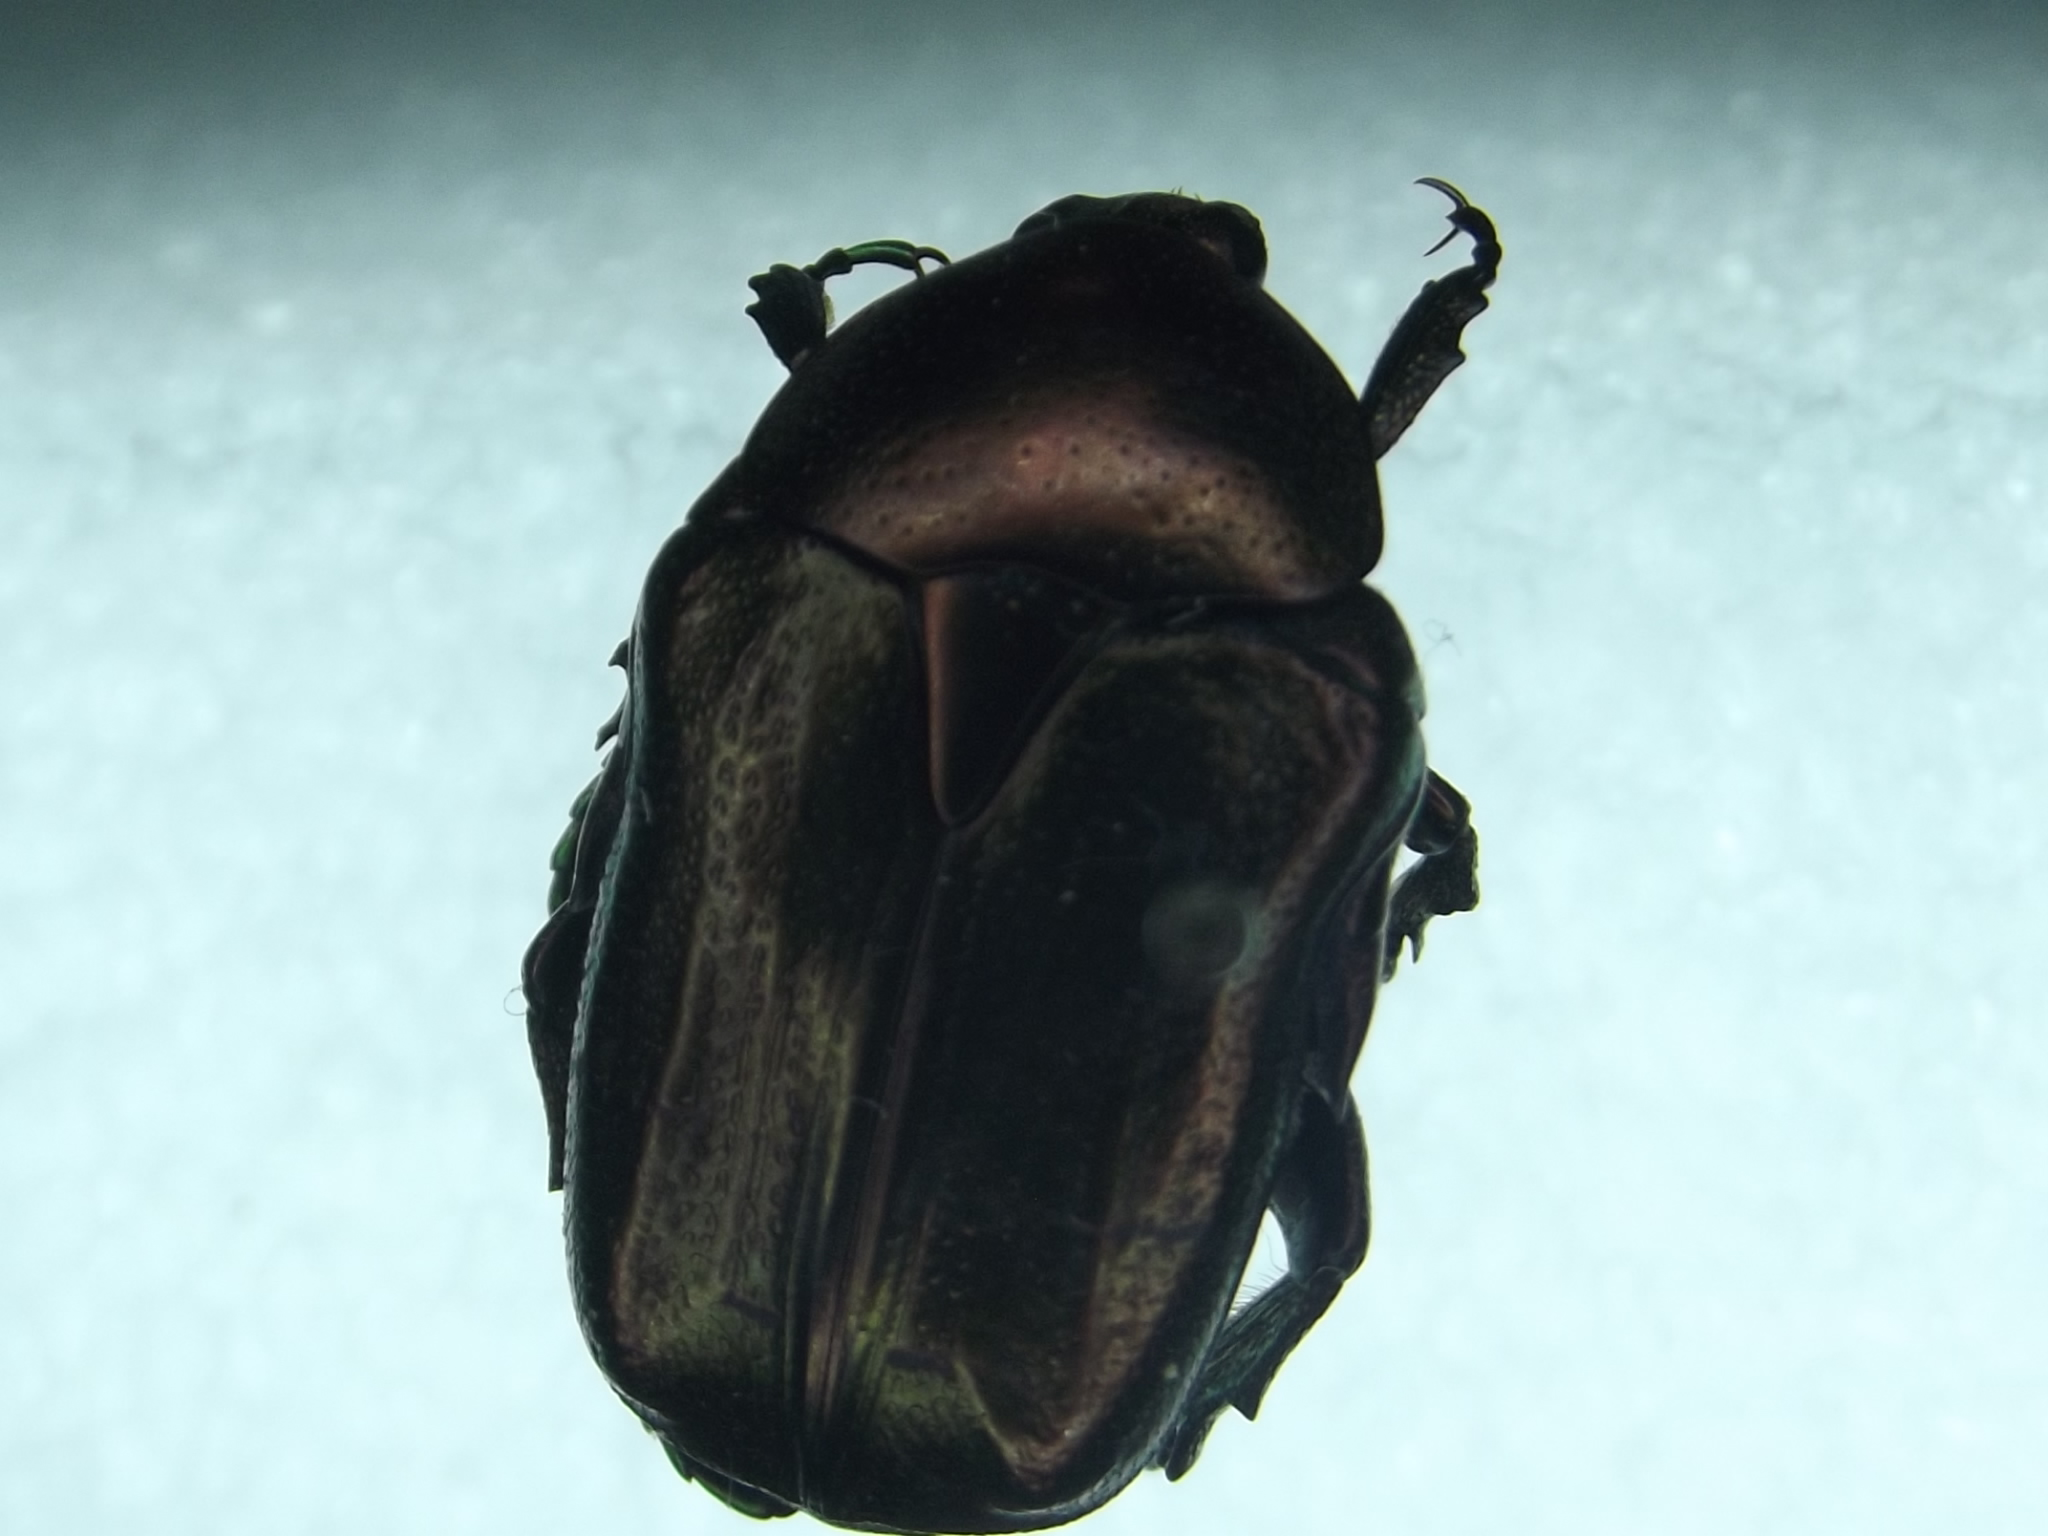Cetonia_aurata: (498, 113, 1558, 1530)
